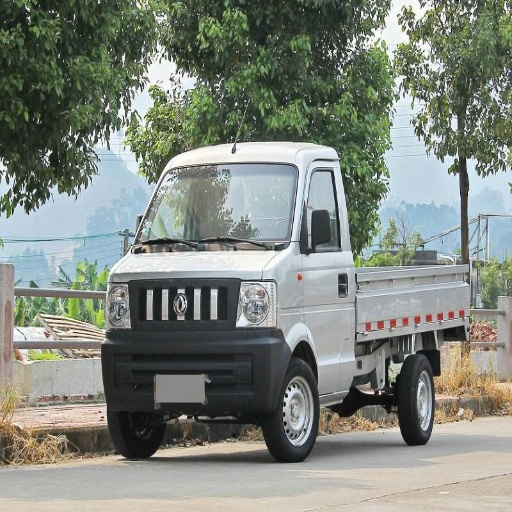back_glass: (155, 171, 187, 228)
front_bumper: (106, 268, 289, 416)
front_glass: (186, 165, 297, 248)
front_left_door: (296, 160, 339, 310)
trunk: (305, 269, 449, 391)
